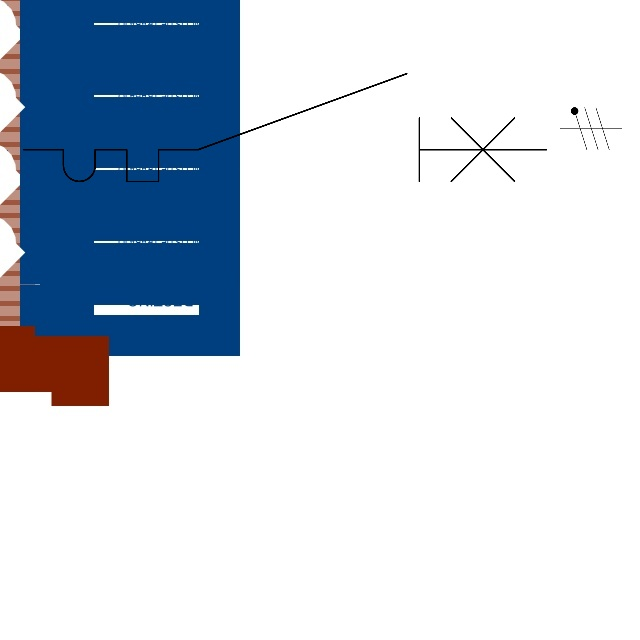interruptor_termomagnetico: (10, 60, 560, 195)
